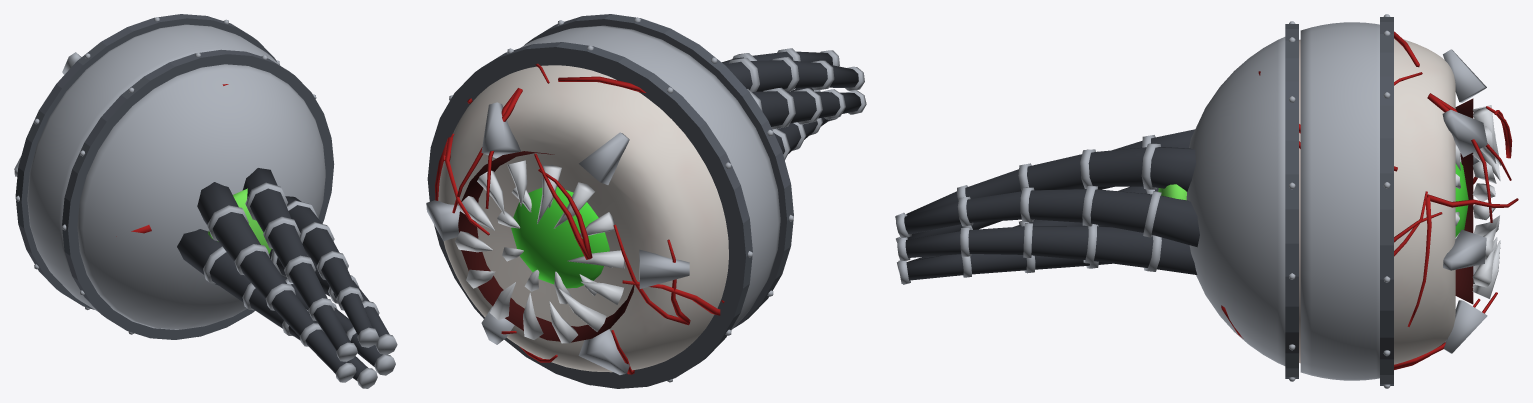
Rendered from spazmatism_open.glb.
3 views of the same model, side by side, from view 1: azimuth 30°, elevation 25°; view 2: azimuth 150°, elevation 25°; view 3: azimuth 270°, elevation 25° (orthographic). The views are drawn at different scales.
Parts seen in each view (by area): view 1: spazmatism_open; view 2: spazmatism_open; view 3: spazmatism_open.
Part boxes in pixels (x1,y1,x2,y2): spazmatism_open: (14,14,397,388); spazmatism_open: (426,14,866,388); spazmatism_open: (895,14,1518,388).
Size of the model in its own units: 2.84 by 2.84 by 4.7.
